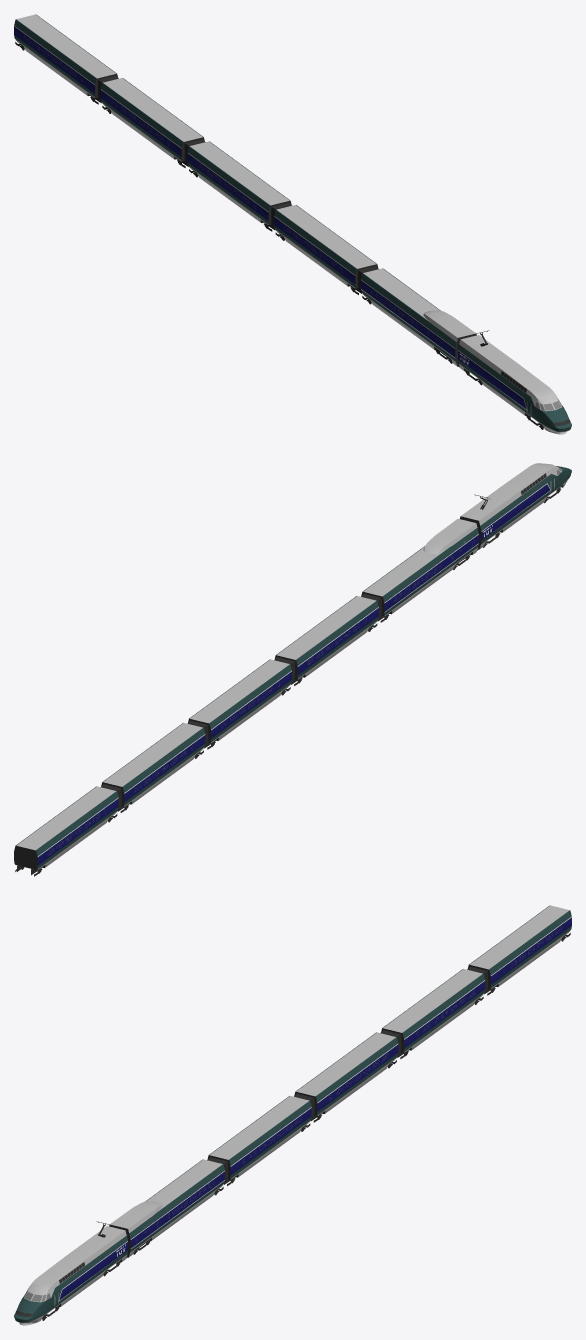
The picture shows the model from 3 angles, top to bottom: view 1: azimuth 30°, elevation 25°; view 2: azimuth 150°, elevation 25°; view 3: azimuth 330°, elevation 25°; orthographic projection.
Visible parts, largest first — view 1: Group_1 (×16), SketchUp (×3), Group_2 (×4); view 2: Group_1 (×16), SketchUp (×3), Group_2 (×5); view 3: Group_1 (×16), SketchUp (×3), Group_2 (×4).
Part boxes in pixels (x1,y1,x2,y2): Group_1 (×16): [14, 14, 376, 283]; SketchUp (×3): [458, 335, 571, 431]; Group_2 (×4): [361, 268, 456, 357]; Group_1 (×16): [16, 596, 378, 865]; SketchUp (×3): [461, 463, 571, 544]; Group_2 (×5): [363, 521, 478, 611]; Group_1 (×16): [209, 905, 571, 1174]; SketchUp (×3): [14, 1226, 127, 1322]; Group_2 (×4): [129, 1159, 224, 1248].
Bounding box in the file's own units: 124 × 4933 × 228.
